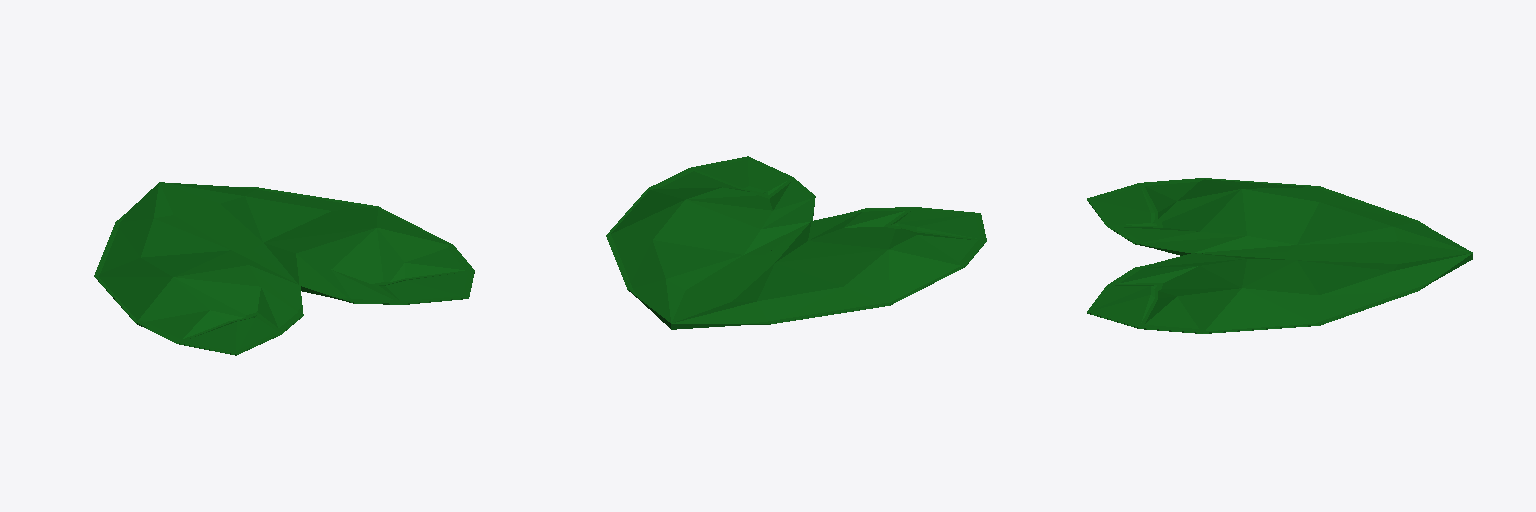
Rendered from Scale.obj.
3 views of the same model, side by side, from view 1: azimuth 30°, elevation 25°; view 2: azimuth 150°, elevation 25°; view 3: azimuth 270°, elevation 25° (orthographic).
Parts seen in each view (by area): view 1: Scale; view 2: Scale; view 3: Scale.
Boxes of the visible parts, box(x1,y1,x2,y2) form: Scale: box(94, 182, 474, 355); Scale: box(606, 156, 986, 329); Scale: box(1087, 178, 1472, 333).
Size of the model in its own units: 1.9 by 0.2001 by 2.